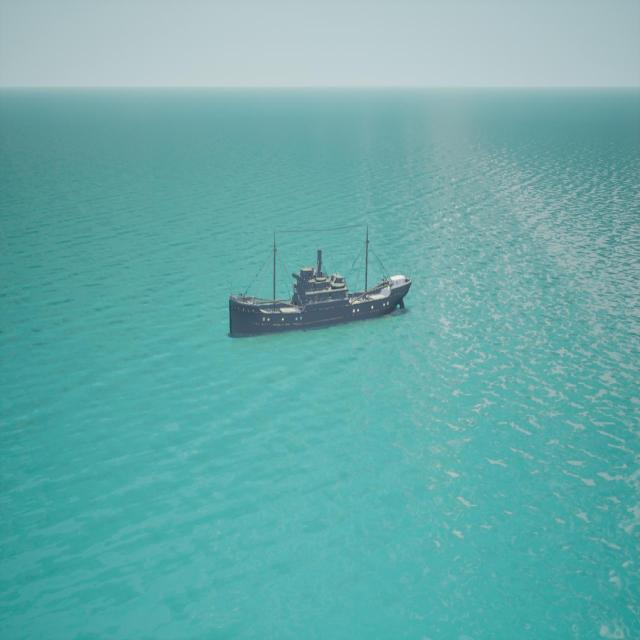fishing ship: (230, 236, 413, 339)
